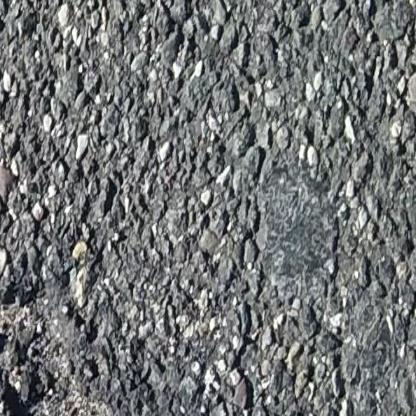Cracks: (0, 273, 131, 416)
